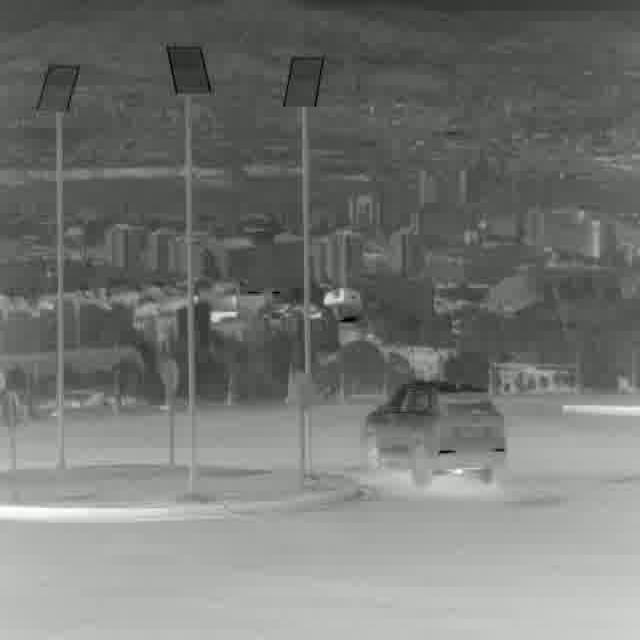Car: (364, 381, 504, 488)
